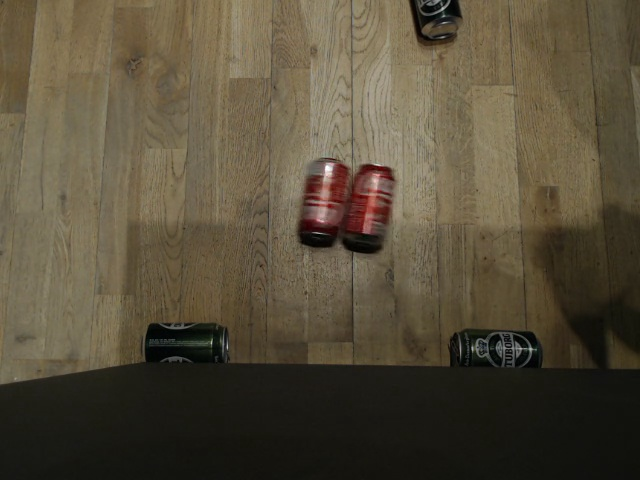beer: (449, 325, 542, 372), (139, 321, 231, 364), (405, 0, 463, 45)
cola: (341, 162, 400, 243), (295, 154, 351, 238)
